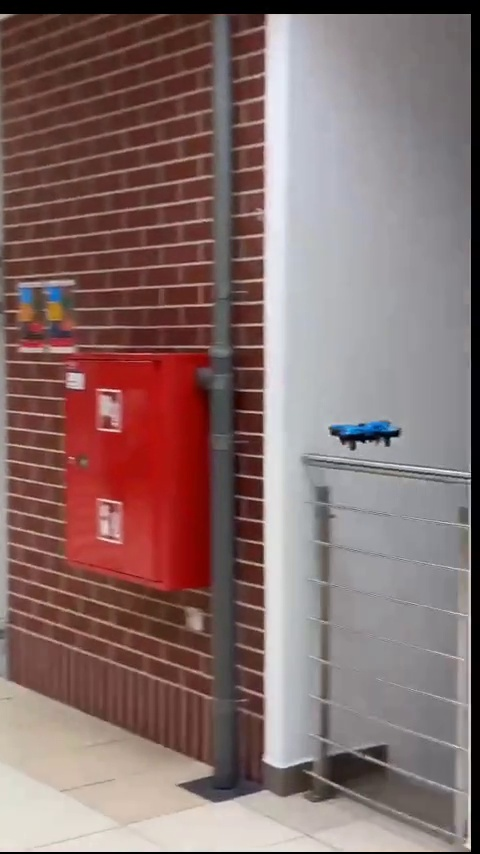drone: (330, 418, 409, 457)
